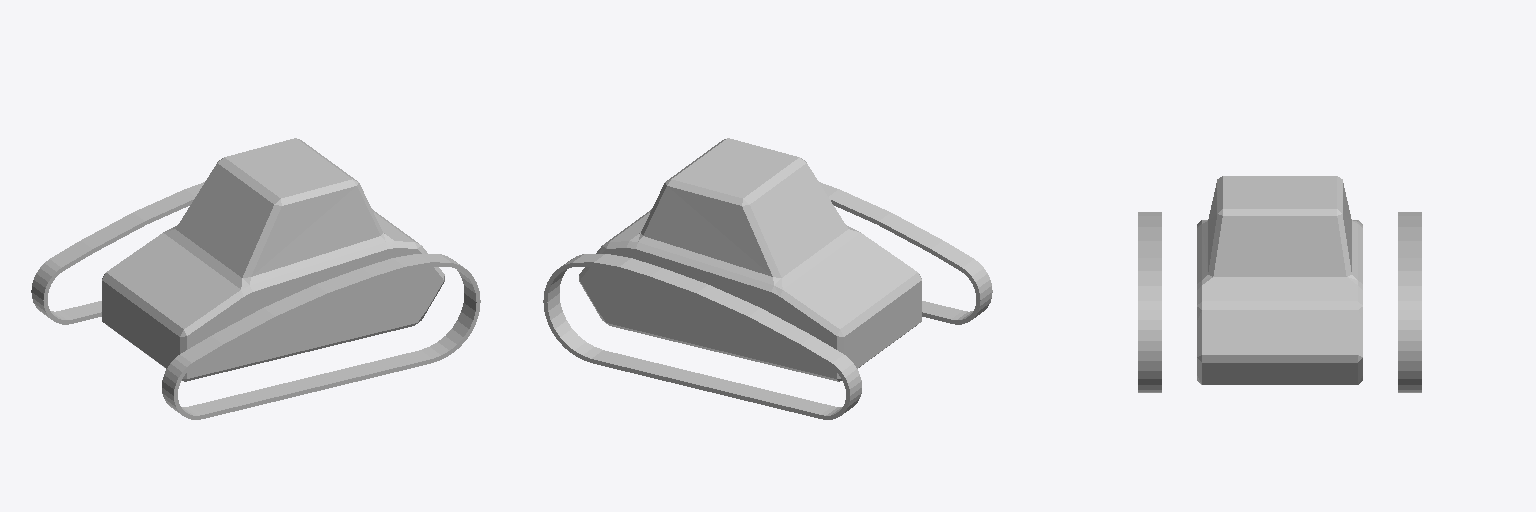
File: small_tank_body.obj
The picture shows the model from 3 angles: view 1: azimuth 30°, elevation 25°; view 2: azimuth 150°, elevation 25°; view 3: azimuth 270°, elevation 25°; orthographic projection.
Size of the model in its own units: 1 by 0.503 by 0.8041.